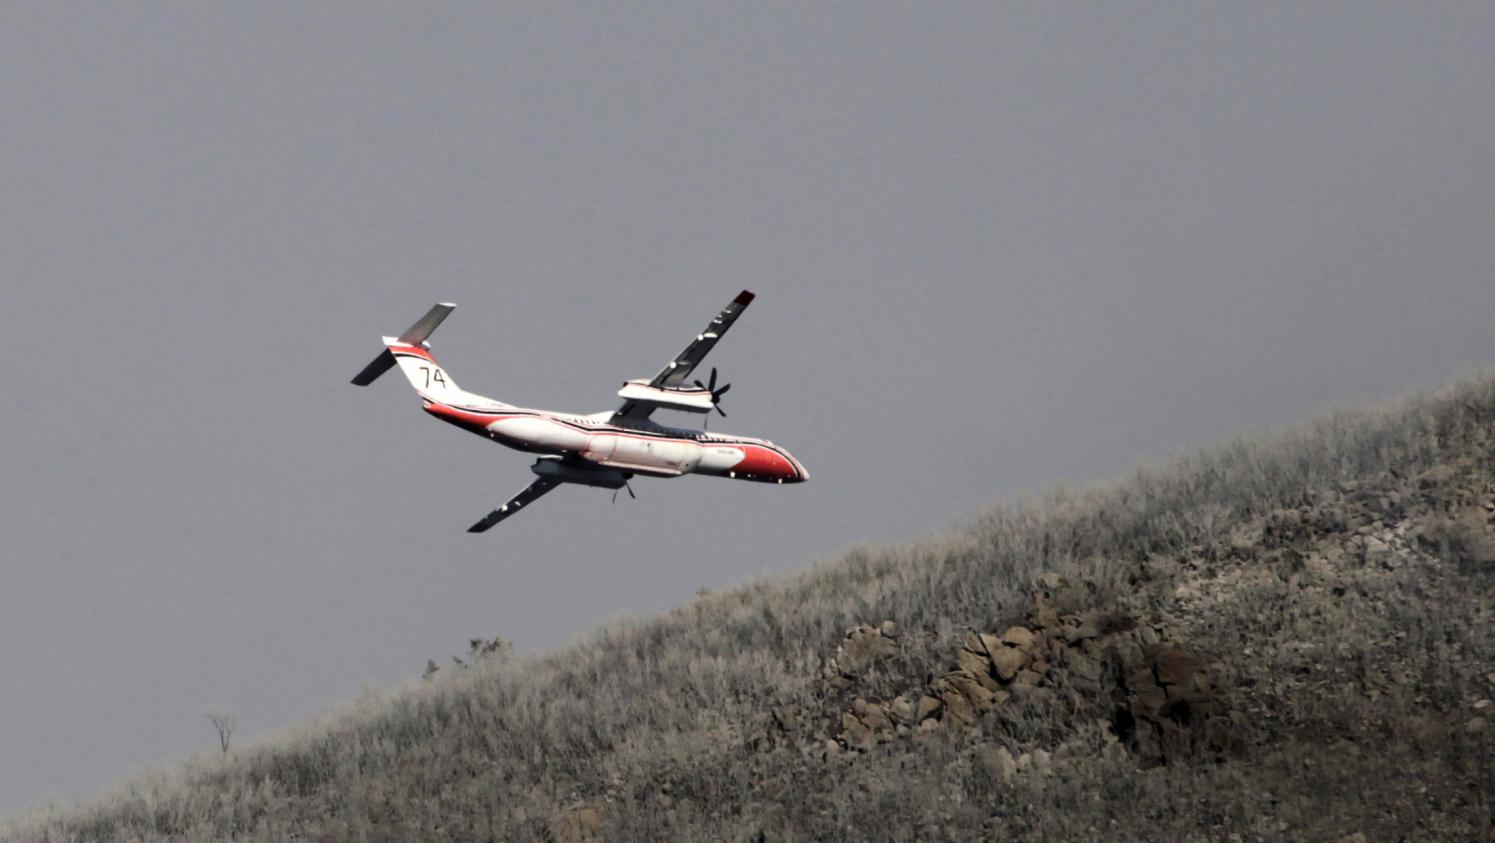Aeronef_de_service: (339, 278, 840, 539)
